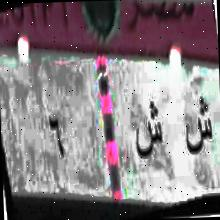6: (46, 98, 68, 171)
sheen: (132, 92, 164, 172), (182, 93, 214, 160)
